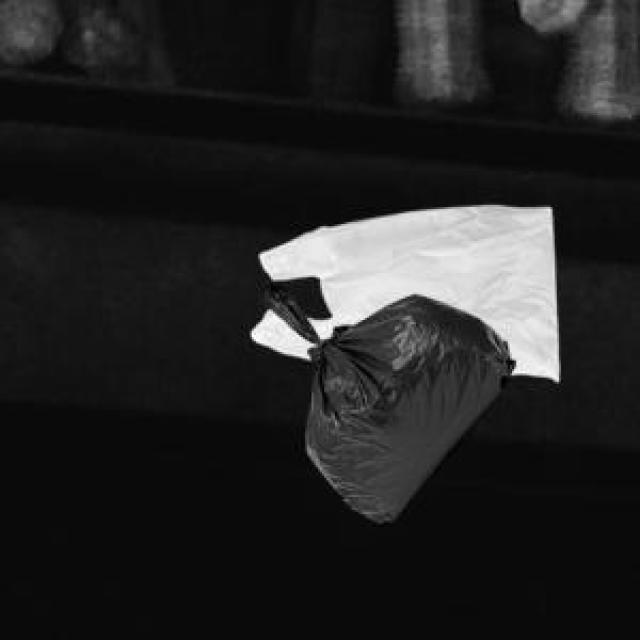miscellaneous trash: (258, 277, 512, 518)
